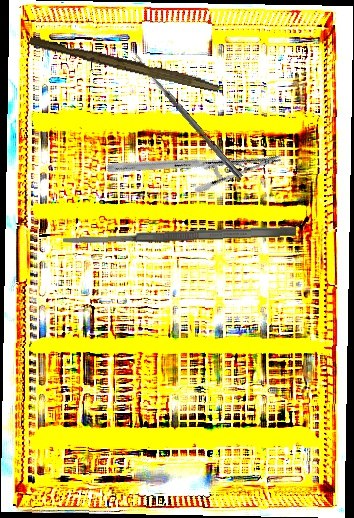Needle Holder: (105, 84, 284, 243)
Scalpel Handle: (27, 35, 222, 93)
Spatula Surgical: (62, 224, 297, 247)
Surgical Spoon: (132, 53, 244, 180)
